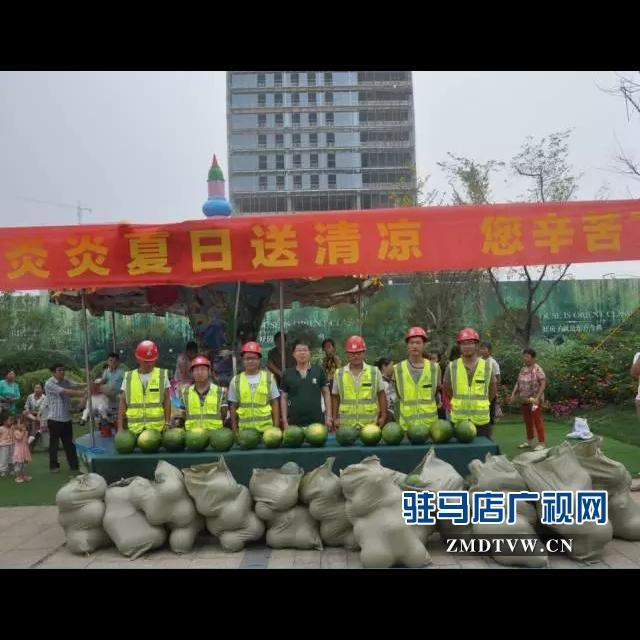Colete: (394, 359, 438, 429), (124, 367, 167, 433), (449, 358, 491, 425), (335, 364, 379, 426), (230, 370, 272, 431), (183, 383, 222, 429)
Pessoa: (444, 327, 496, 437), (332, 335, 386, 428), (117, 340, 170, 433), (227, 341, 279, 432), (394, 326, 439, 429), (280, 339, 332, 428), (44, 363, 86, 472), (511, 348, 545, 449), (183, 355, 226, 429), (95, 352, 124, 417), (23, 382, 45, 446), (427, 349, 446, 419), (376, 357, 396, 421), (12, 417, 31, 482), (174, 341, 197, 391), (479, 341, 500, 388), (0, 409, 13, 477), (0, 370, 19, 415), (322, 338, 340, 385), (267, 332, 282, 387), (441, 367, 450, 420), (635, 382, 639, 417)
